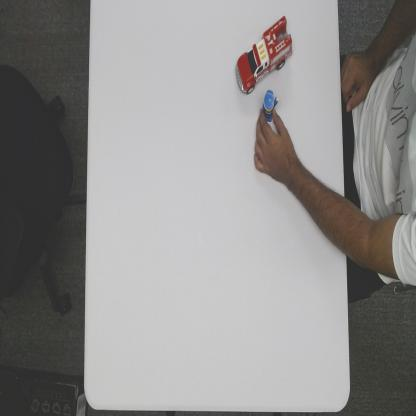Arm: (290, 150, 343, 255)
Firetruck: (234, 14, 294, 96)
Hand: (253, 106, 295, 182)
